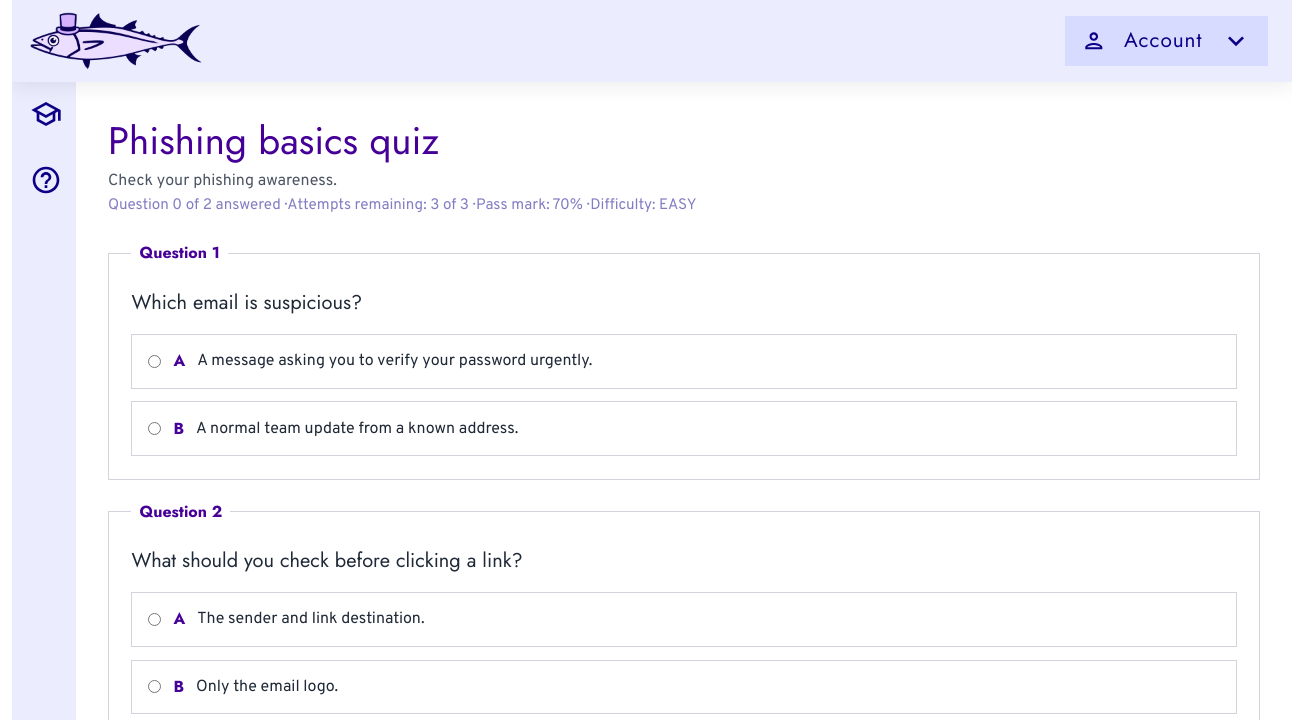
QuizPage › allows trainees to select answers and updates progress text
Expected: the heading "Phishing basics quiz" is shown, [108,113,439,168]
Click the radio button labelled "A A message asking you to verify your password urgently." at (155, 361), box [148,355,161,368]
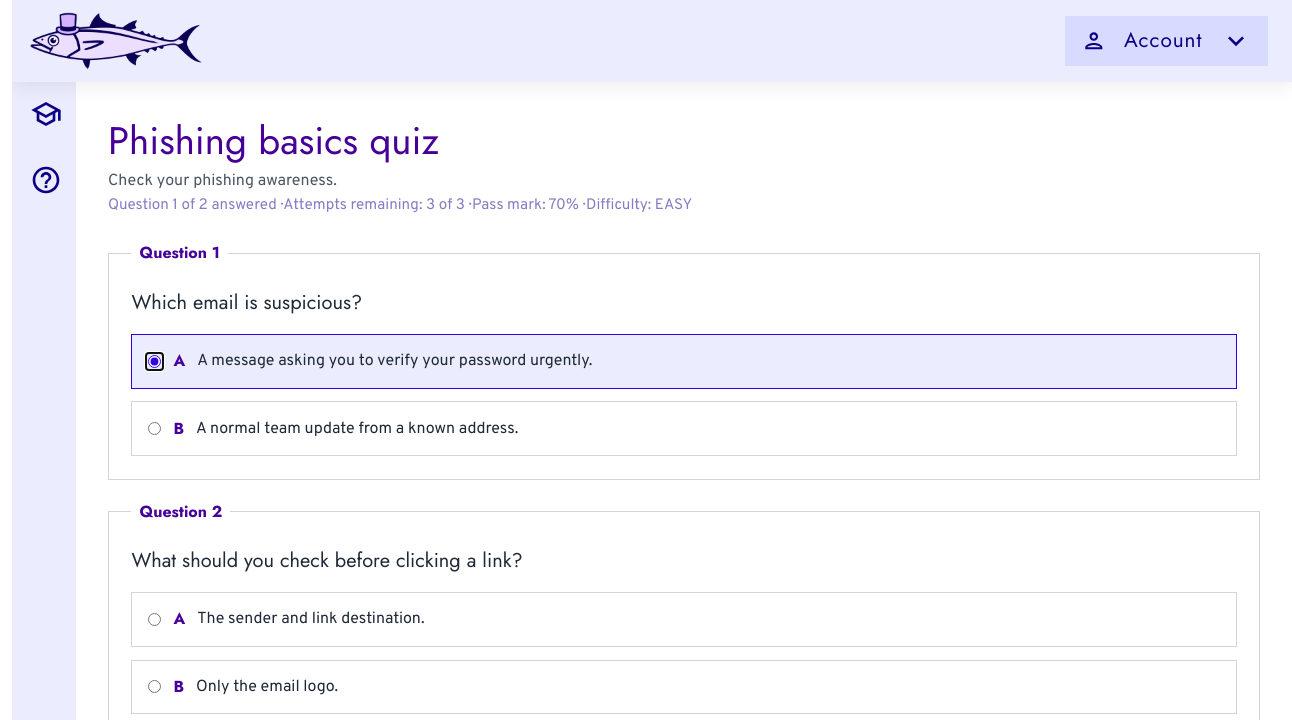
Expected: the text "Question 1 of 2 answered" is shown, [108,196,692,215]
Click the radio button labelled "A The sender and link destination." at (155, 619), box [148,613,161,626]
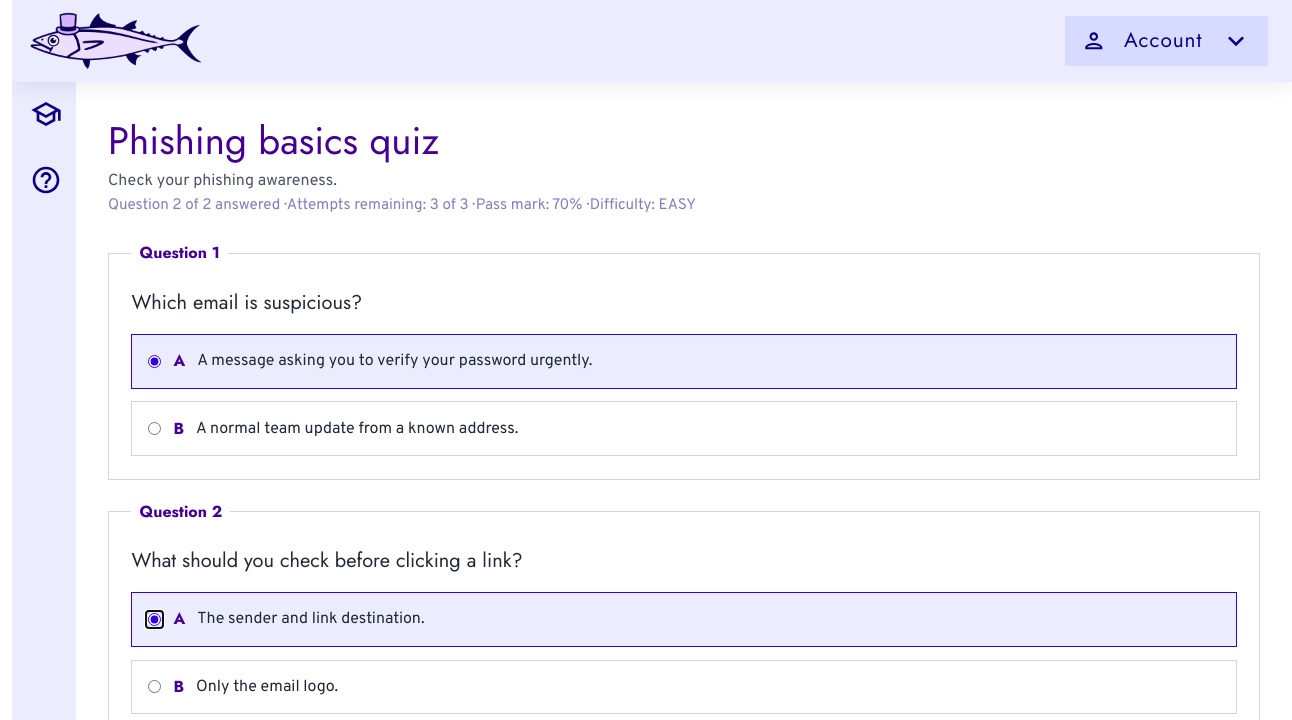
Expected: the text "Question 2 of 2 answered" is shown, [108,196,696,215]
